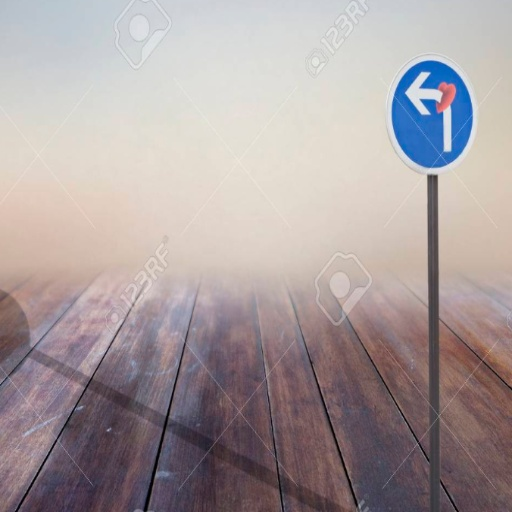Turn left: (382, 50, 482, 178)
